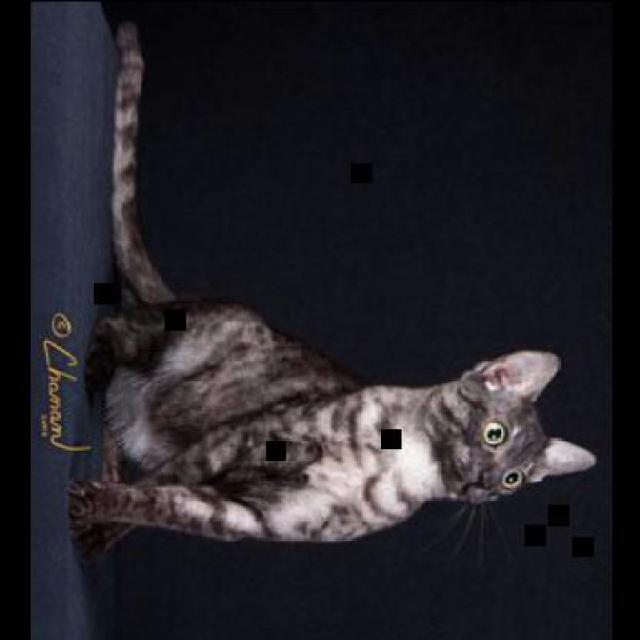unauthorized: (65, 18, 597, 560)
